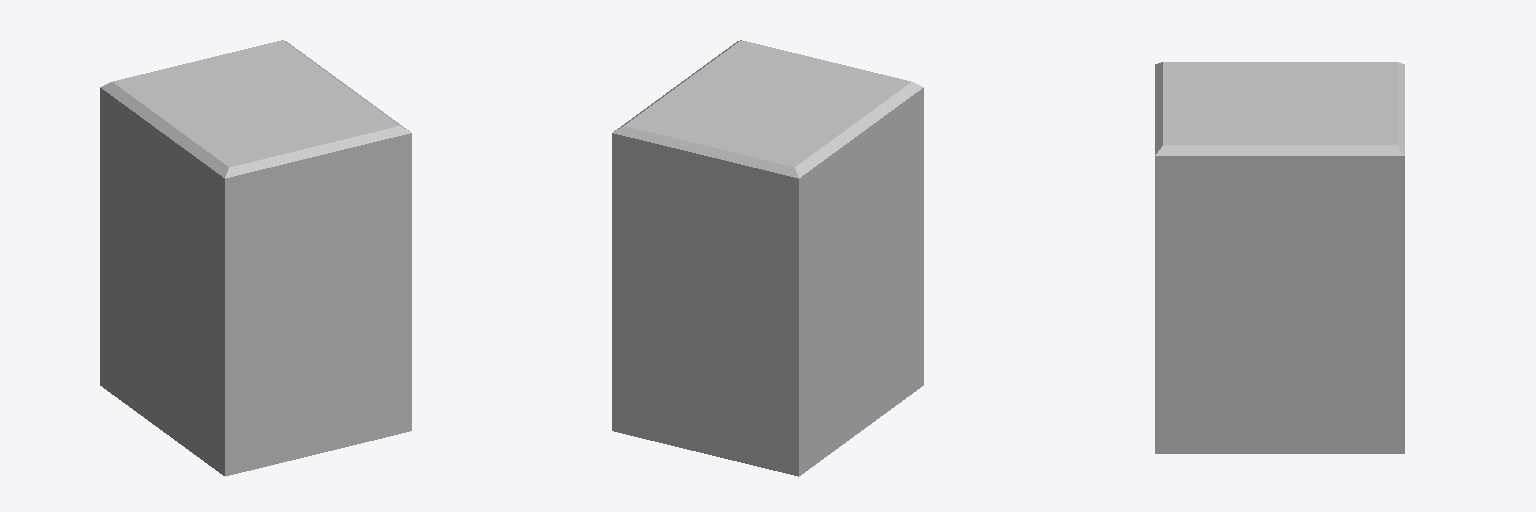
File: CS_Building_CenterPieceChip.obj
3 views of the same model, side by side, from view 1: azimuth 30°, elevation 25°; view 2: azimuth 150°, elevation 25°; view 3: azimuth 270°, elevation 25° (orthographic).
Visible parts, largest first — view 1: CenterPieceChip; view 2: CenterPieceChip; view 3: CenterPieceChip.
Part boxes in pixels (left/top/right/bottom): CenterPieceChip: left=100, top=40, right=411, bottom=476; CenterPieceChip: left=612, top=40, right=923, bottom=476; CenterPieceChip: left=1155, top=62, right=1404, bottom=453.
Bounding box in the file's own units: 1.01 × 1.57 × 1.17.